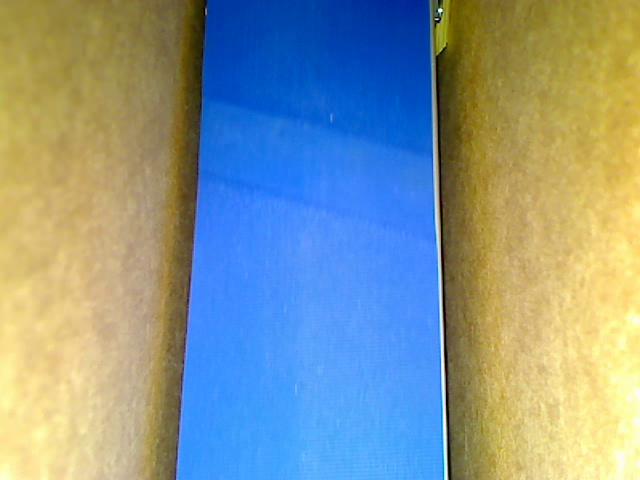penne: (433, 1, 449, 62)
